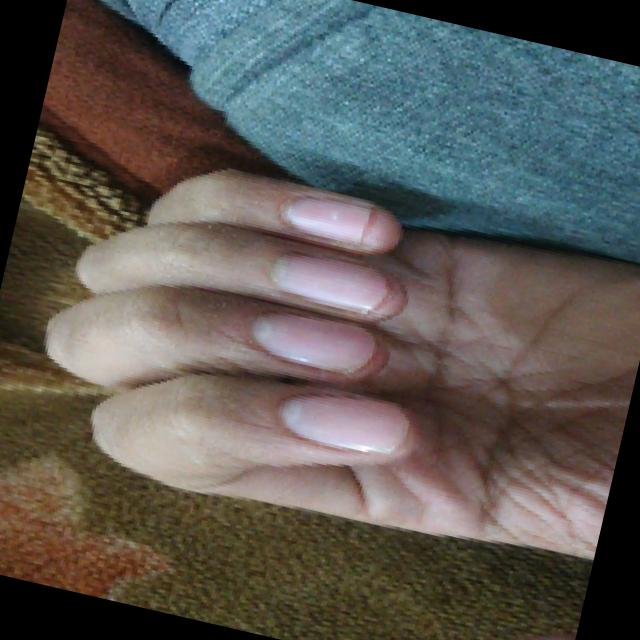Nail: (279, 394, 408, 453), (251, 313, 375, 372), (271, 254, 382, 314), (283, 196, 370, 244)
